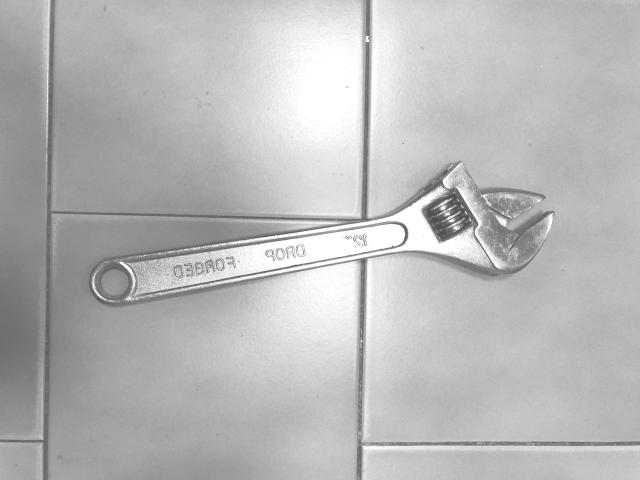Adjustable spanner: (322, 86, 457, 480)
